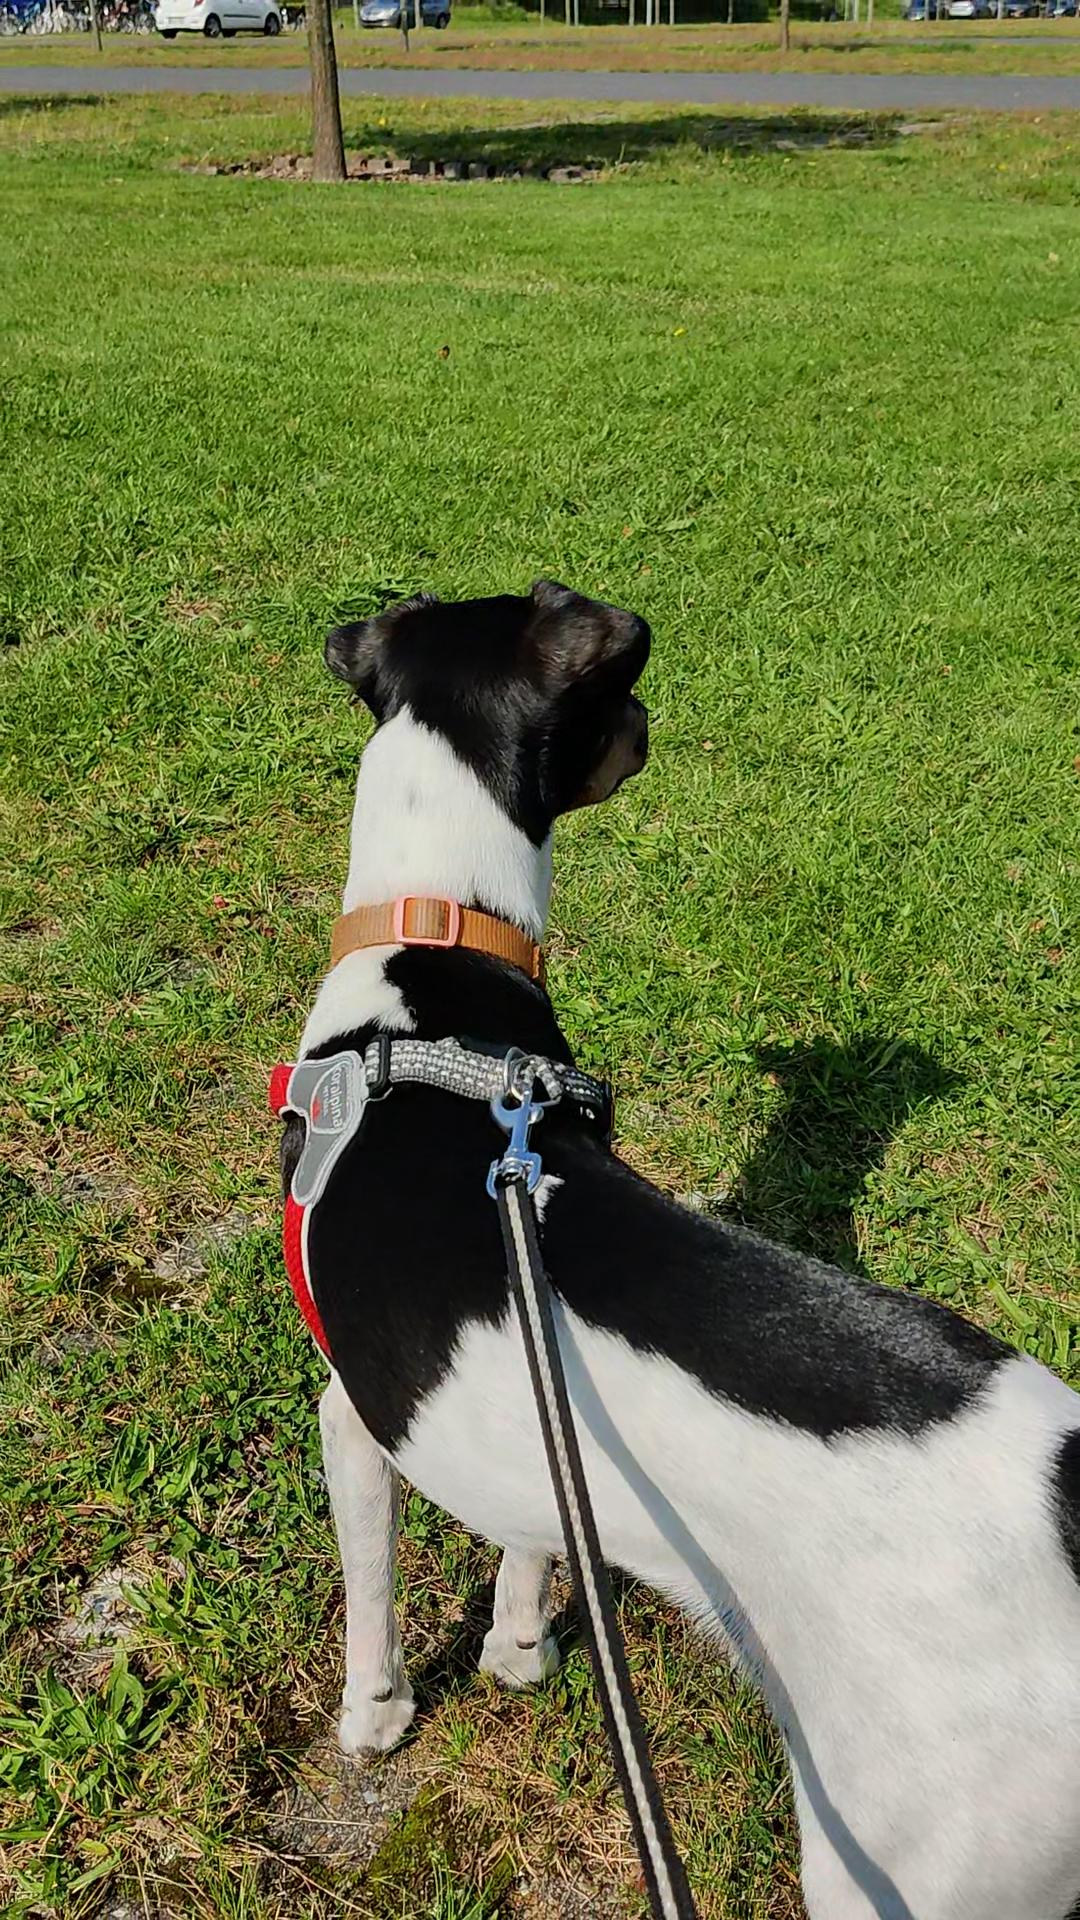Dog: (262, 564, 1079, 1919)
